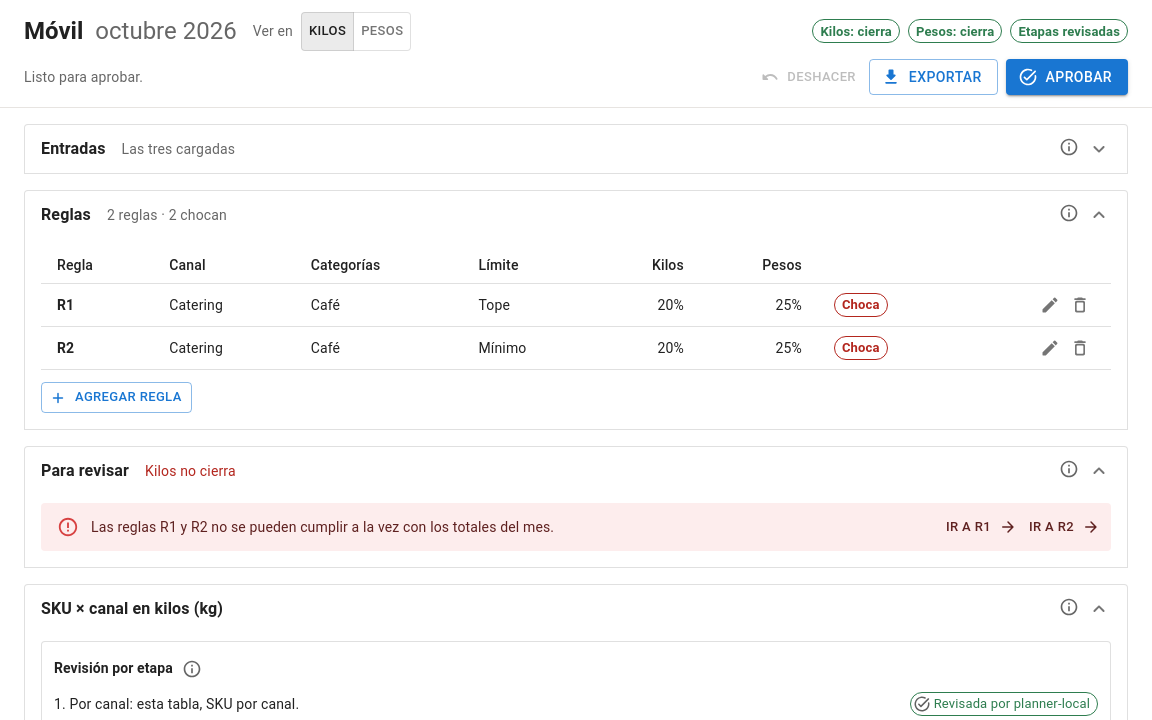
Test: MovilPage › una sección que se abrió sola por un problema no se cierra sola cuando se arregla
The width and height of the screenshot is (1152, 720).
Click the button named "Eliminar R2" at (1080, 348), box [1065,333,1095,363]
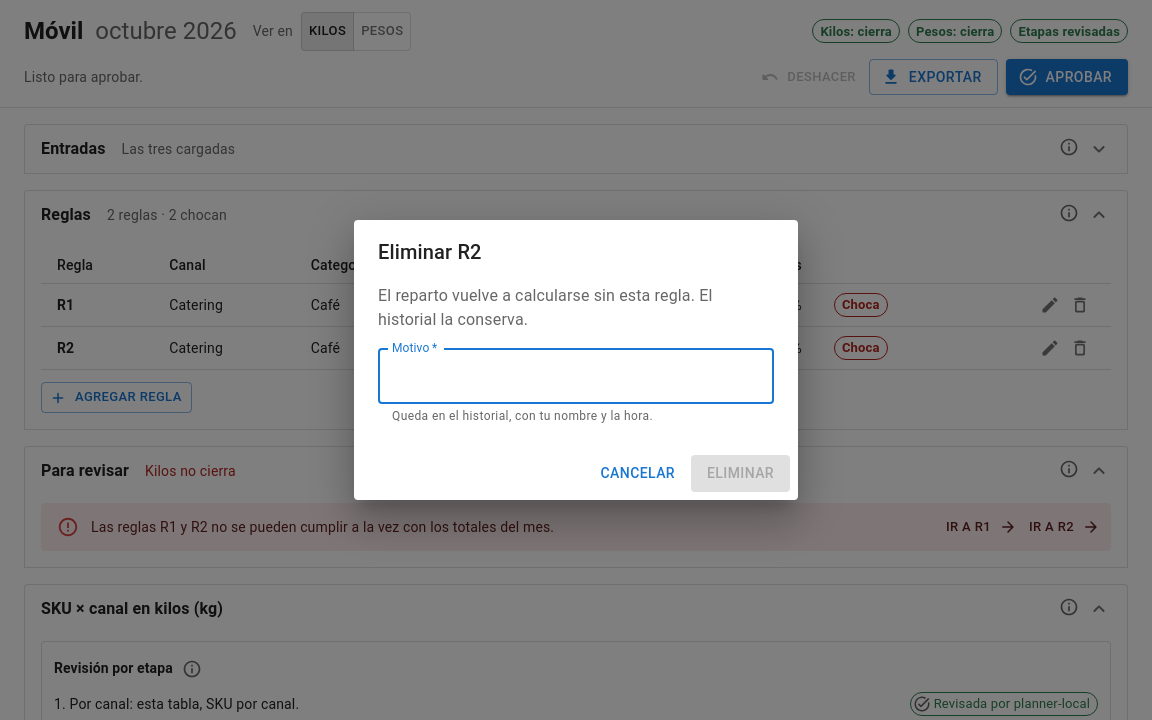
Type "era un error" into the field labelled "Motivo *" at (576, 376), box [378,348,774,404]
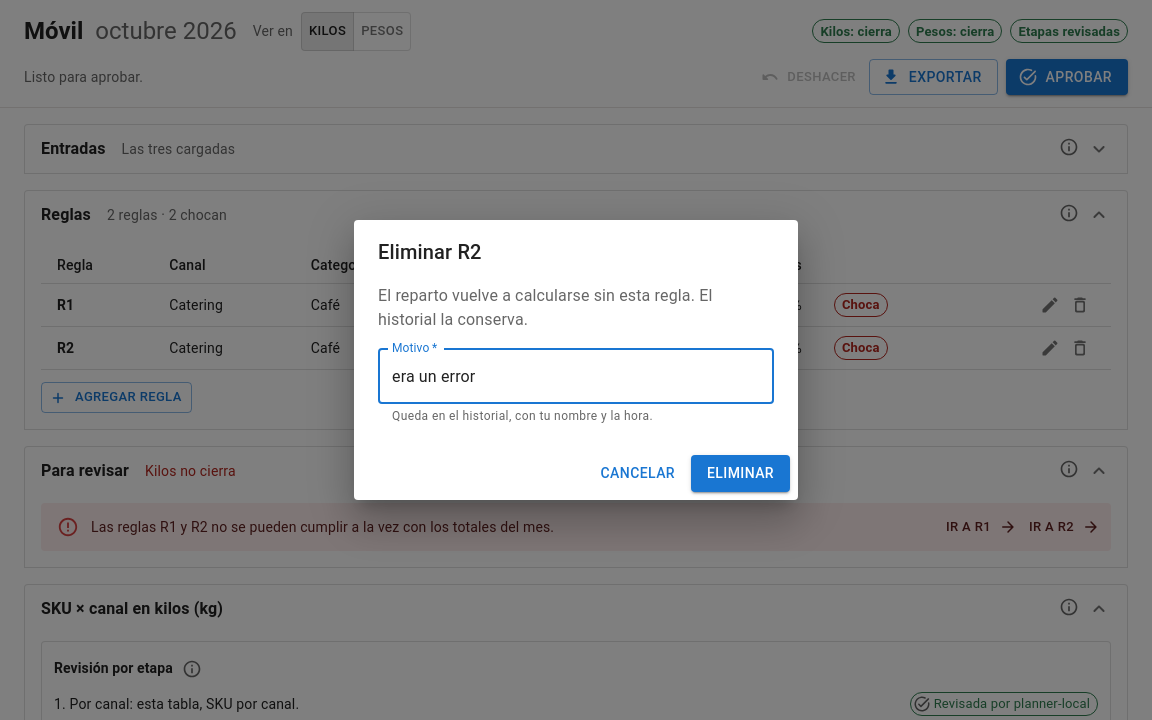
Click the button "Eliminar" at (740, 473), box [691,455,790,492]
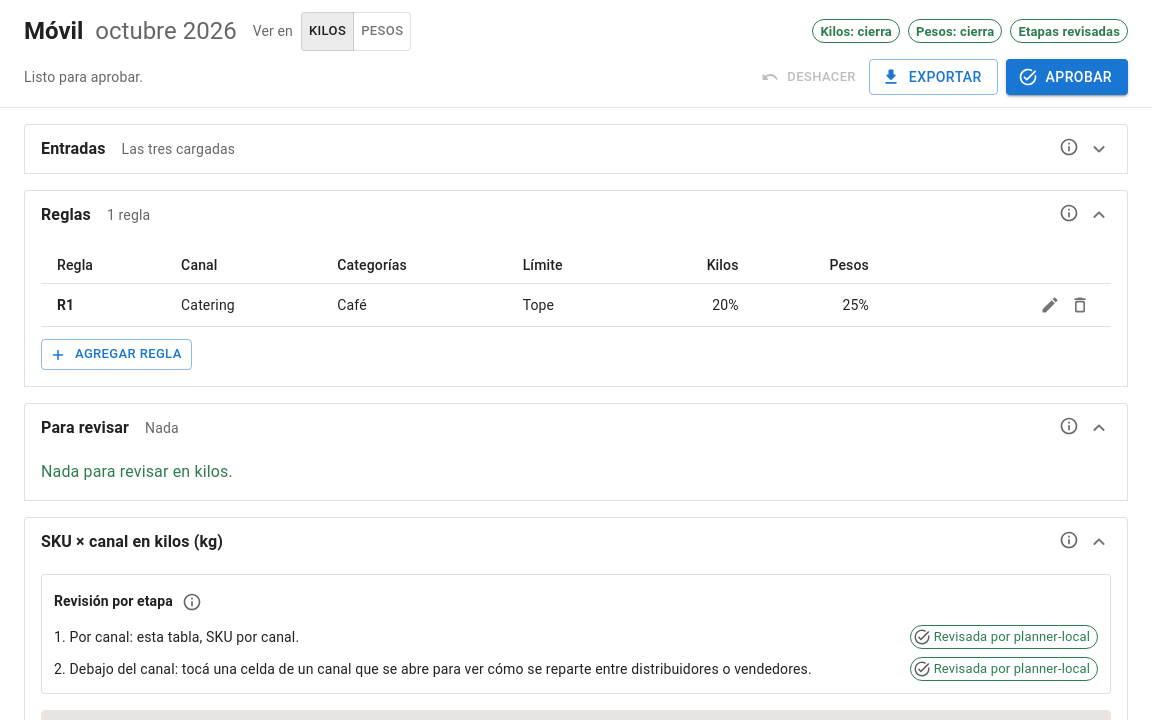
Now the button "choca" is gone
